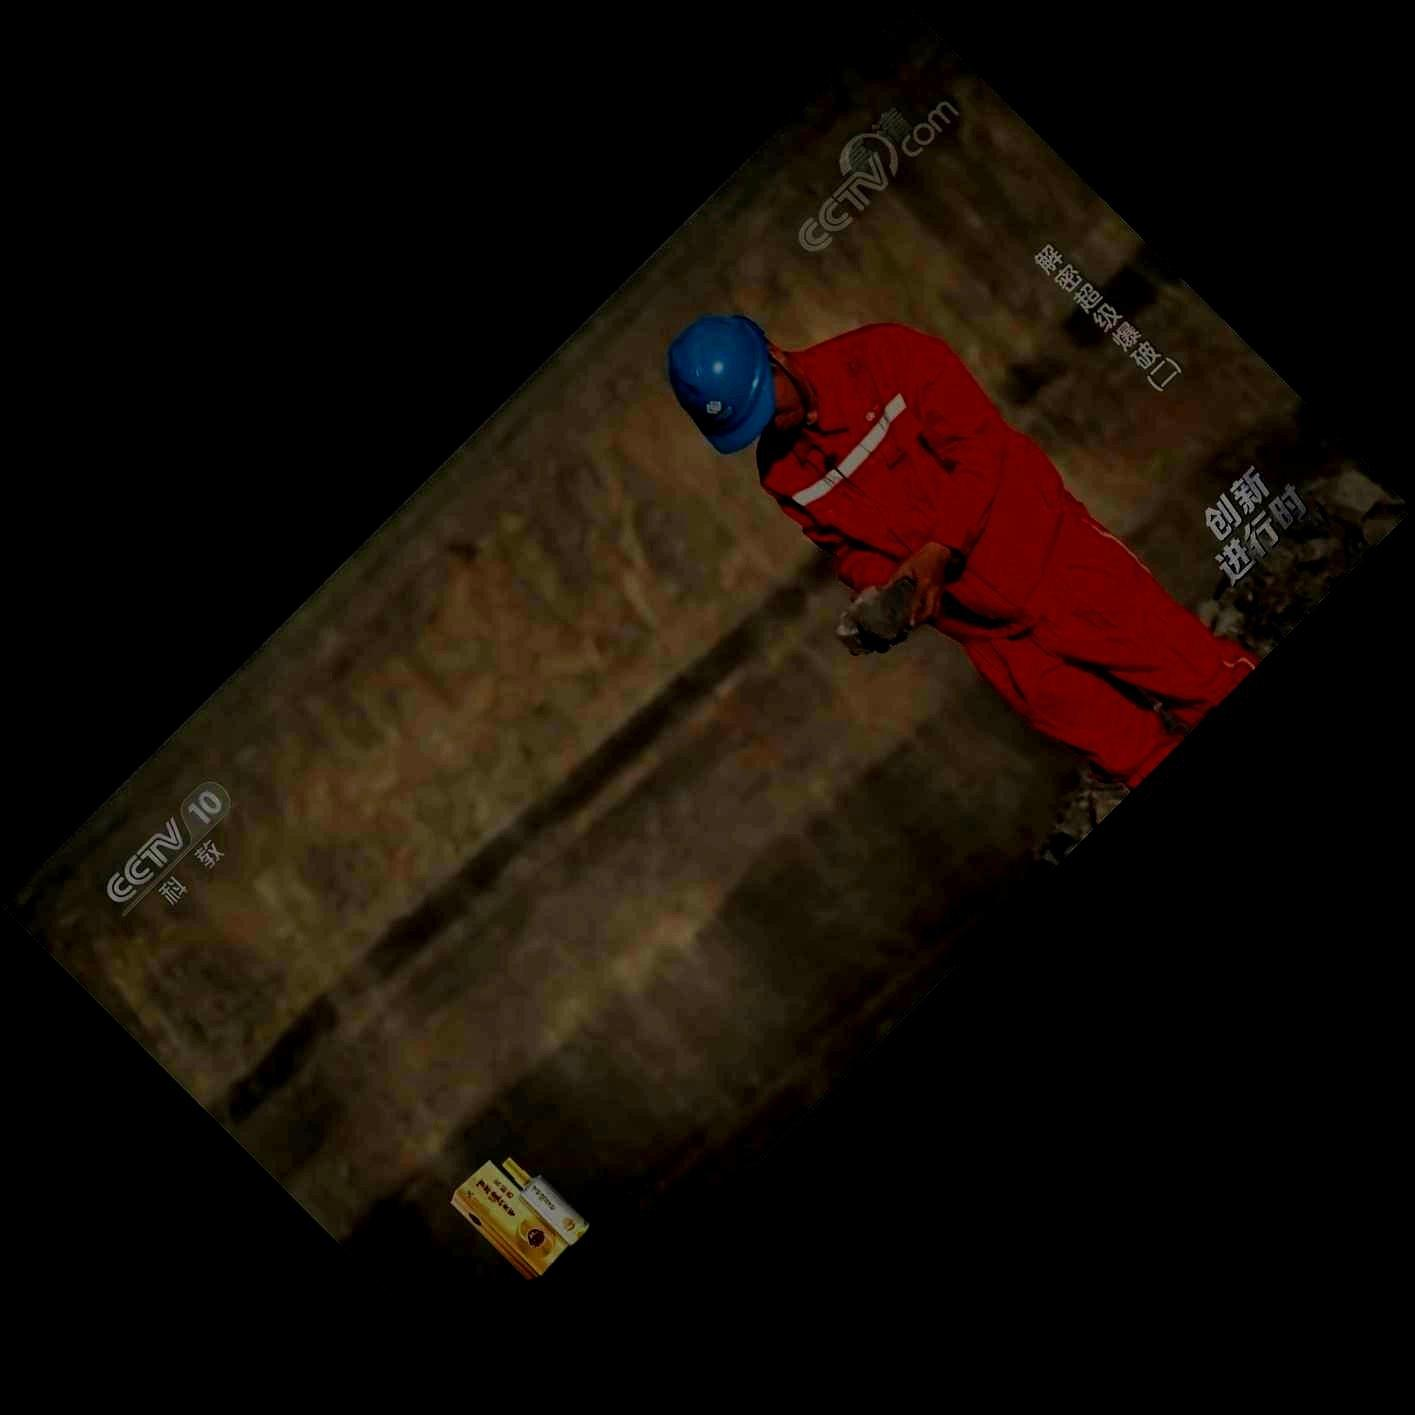helmet: (667, 314, 806, 455)
